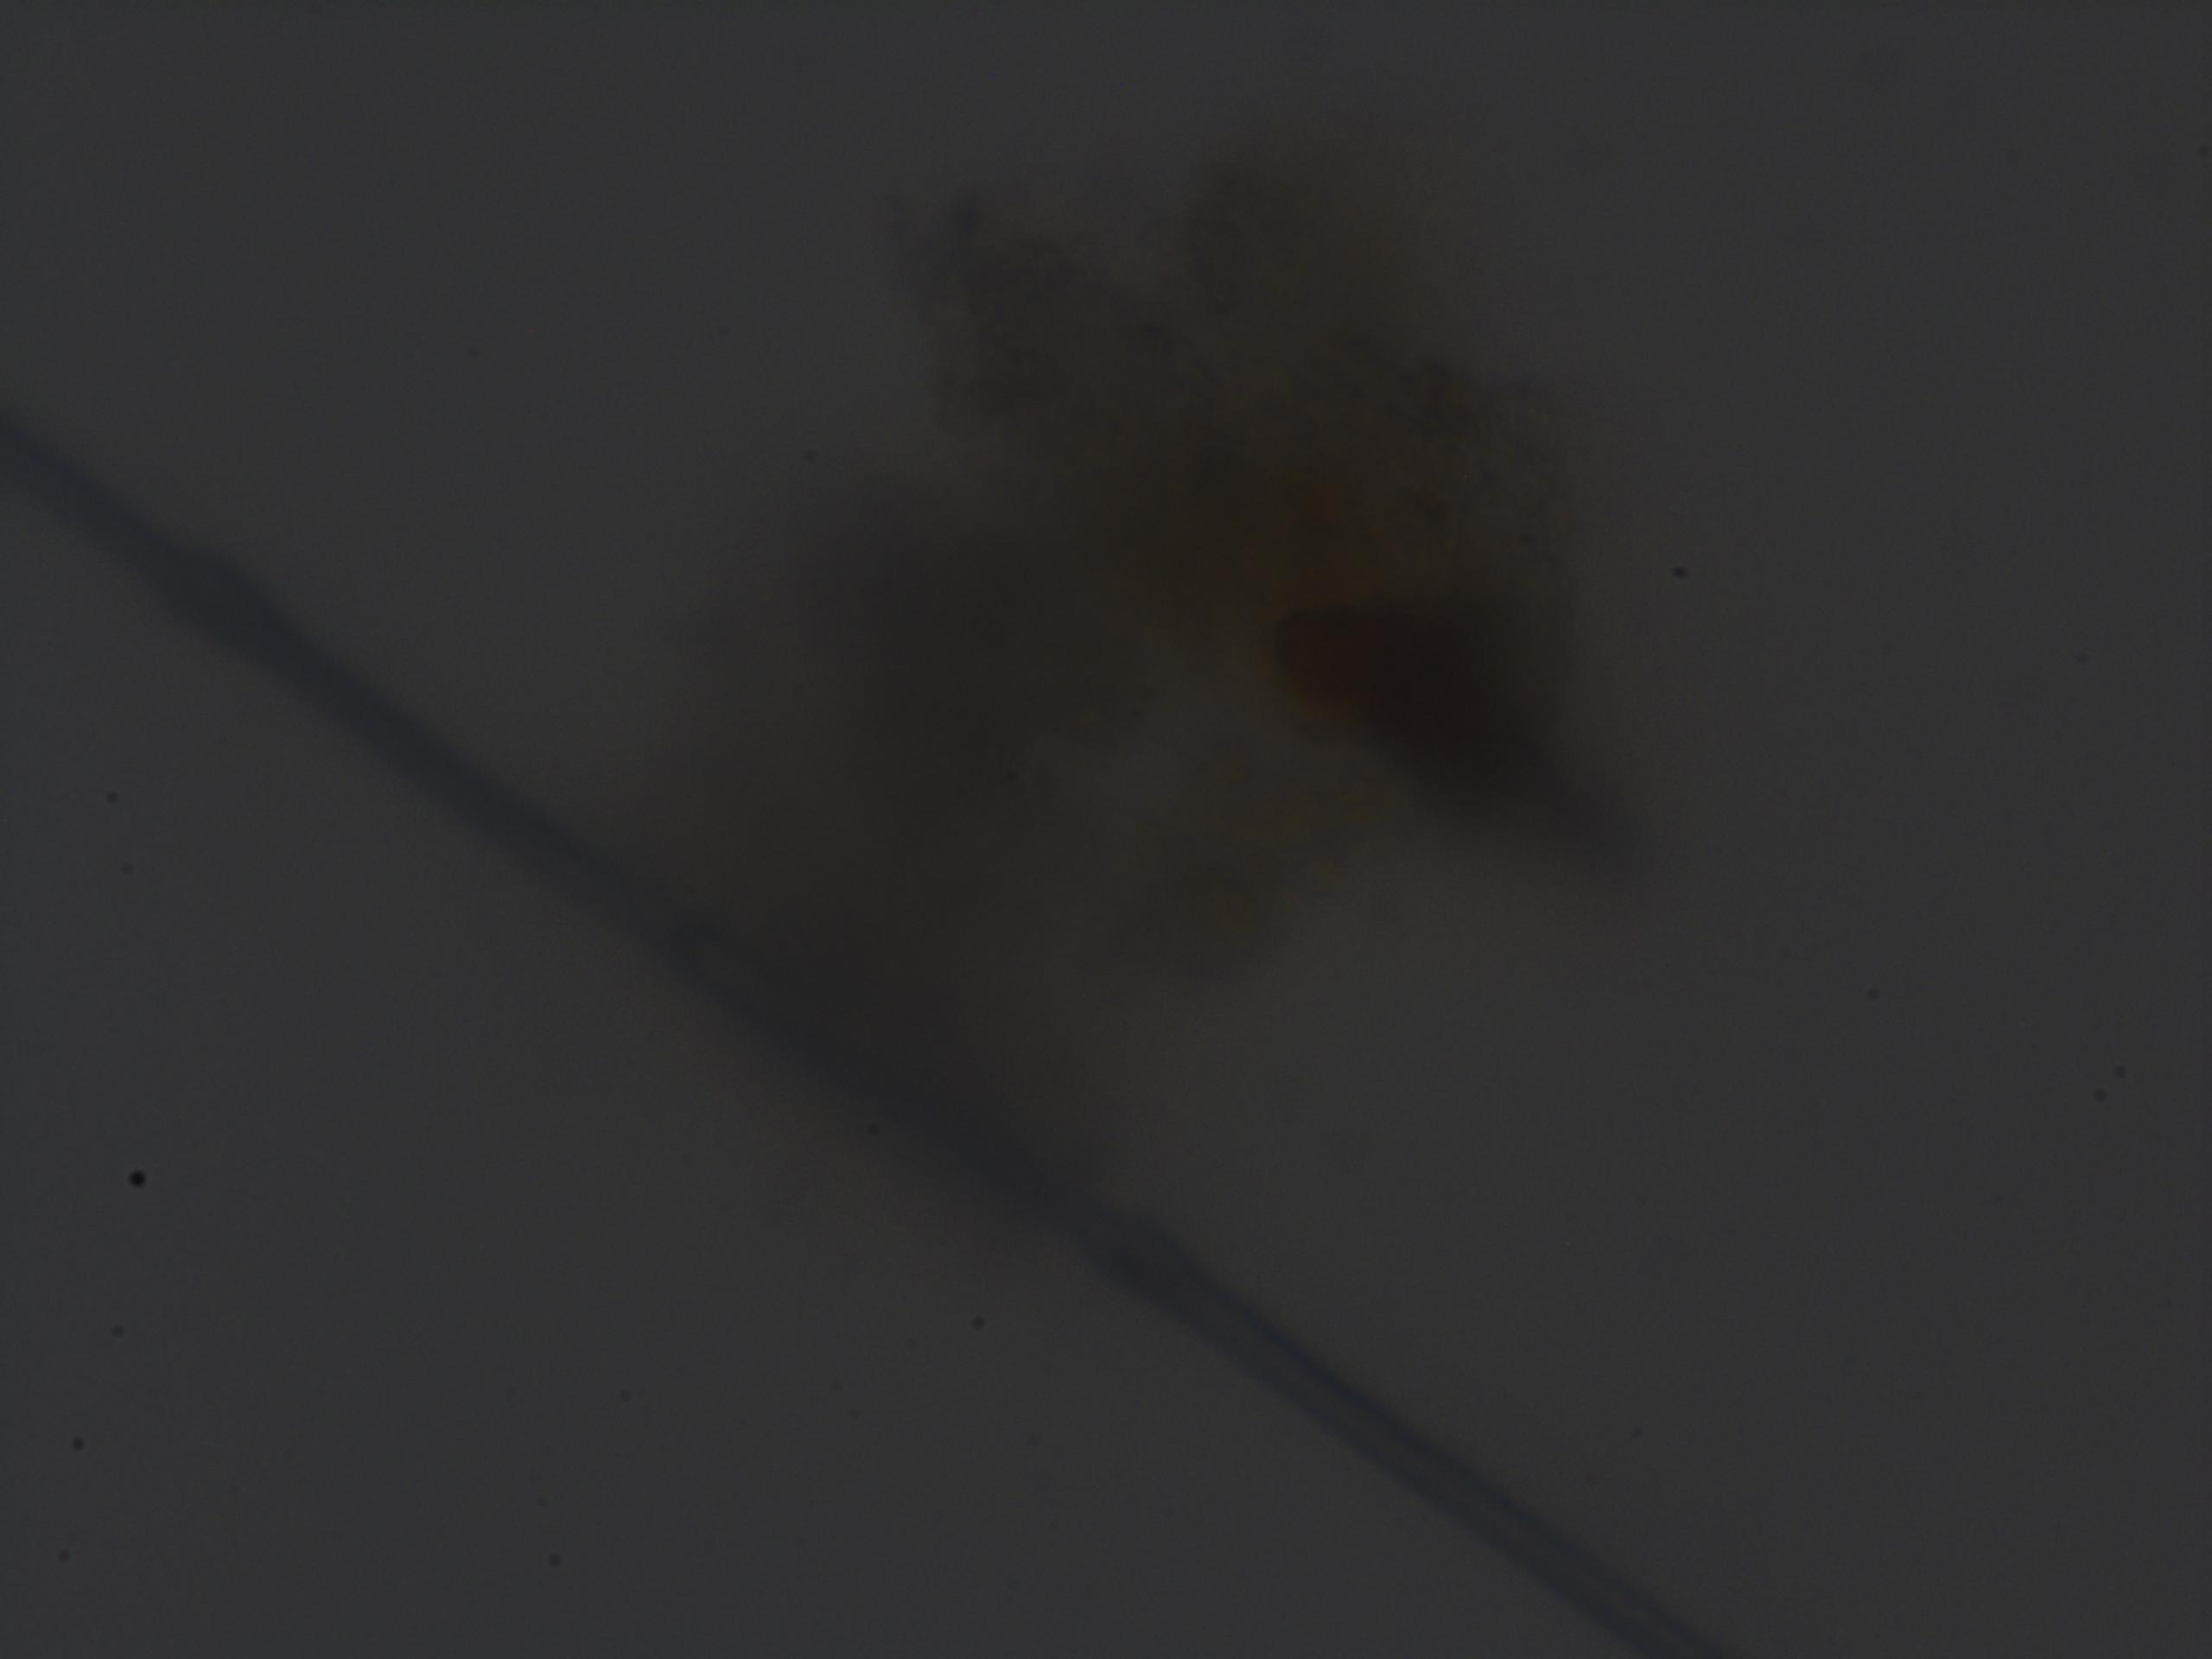filament: (2, 423, 1717, 1659)
